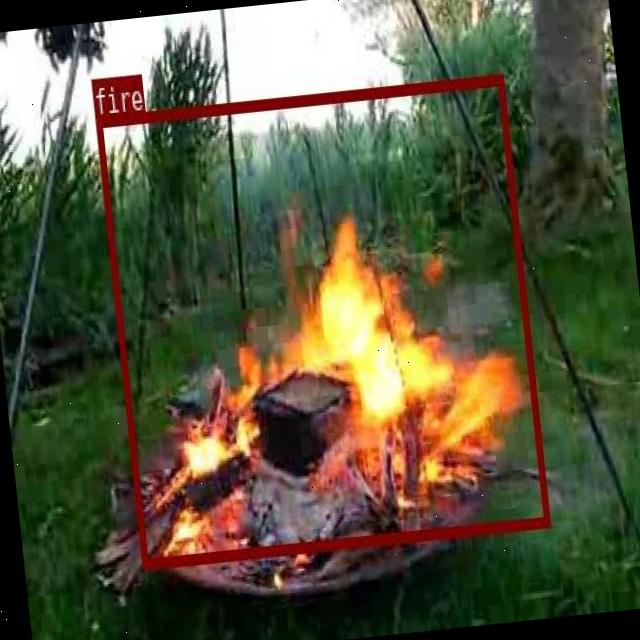fire: (94, 73, 548, 567)
